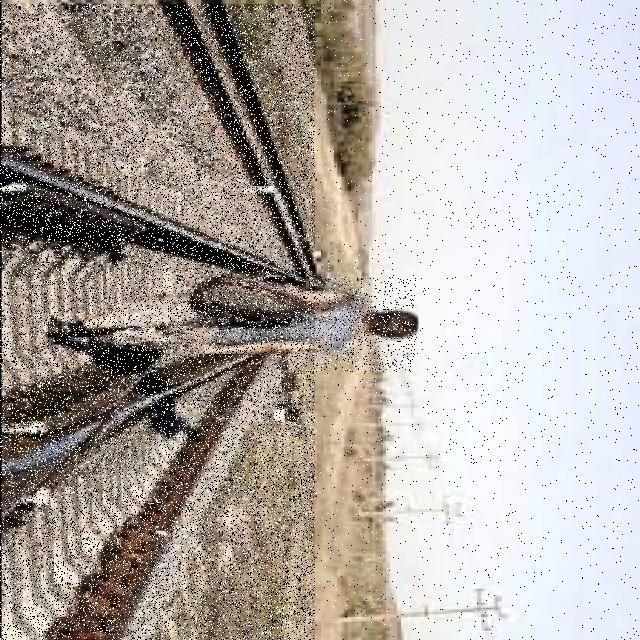rail: (1, 5, 316, 640)
